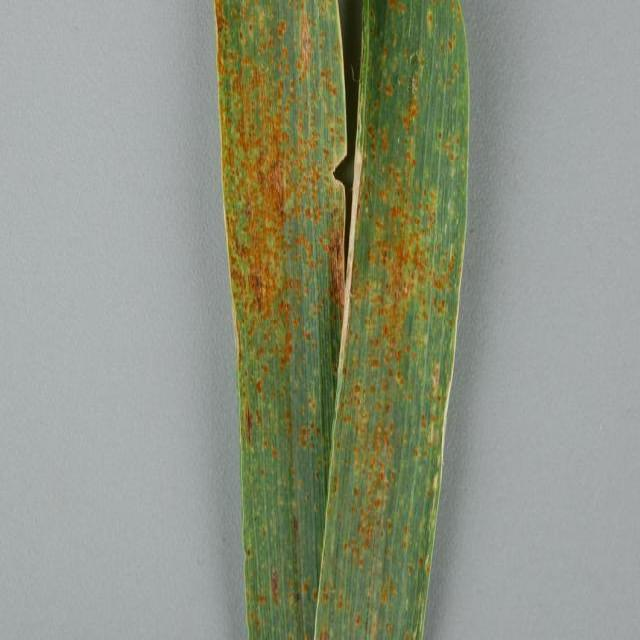leaf rust: (216, 1, 349, 639), (351, 2, 469, 640)
